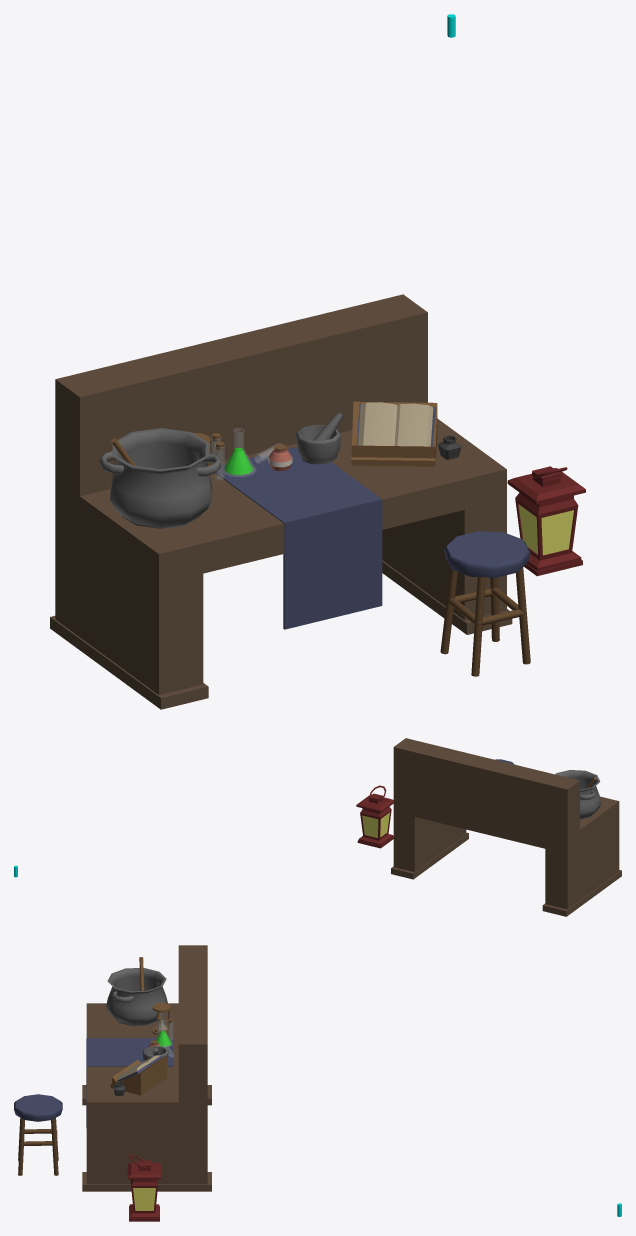
File: Michael Stuff.fbx
3 renders of one model, top to bottom at view 1: azimuth 30°, elevation 25°; view 2: azimuth 150°, elevation 25°; view 3: azimuth 270°, elevation 25°, orthographic. The views are drawn at different scales.
Visible parts, largest first — view 1: pasted__pCube24, pasted__pCube35, pasted__pCylinder20, pasted__pCylinder51, pasted__pCube38, pasted__pCube27, pasted__pCube30, pasted__pCylinder22; view 2: pasted__pCube24, pasted__pCube38, pasted__pCylinder20; view 3: pasted__pCube24, pasted__pCylinder20, pasted__pCylinder51, pasted__pCube35, pasted__pCube38, pasted__pCube30, pasted__pCylinder33.
Part boxes in pixels (box(x1,y1,x2,y2)): pasted__pCube24: box(50, 294, 512, 709); pasted__pCube35: box(216, 447, 382, 629); pasted__pCylinder20: box(99, 428, 221, 528); pasted__pCylinder51: box(440, 531, 530, 676); pasted__pCube38: box(507, 466, 585, 576); pasted__pCube27: box(356, 402, 435, 446); pasted__pCube30: box(351, 401, 437, 466); pasted__pCylinder22: box(295, 424, 341, 464); pasted__pCube24: box(391, 738, 621, 916); pasted__pCube38: box(356, 785, 393, 848); pasted__pCylinder20: box(555, 770, 601, 819); pasted__pCube24: box(82, 945, 211, 1191); pasted__pCylinder20: box(106, 968, 167, 1025); pasted__pCylinder51: box(14, 1094, 62, 1175); pasted__pCube35: box(86, 1038, 173, 1127); pasted__pCube38: box(127, 1155, 161, 1221); pasted__pCube30: box(110, 1056, 166, 1095); pasted__pCylinder33: box(152, 1002, 170, 1034).
Bounding box in the file's own units: 7.76 × 2.47 × 9.26.
